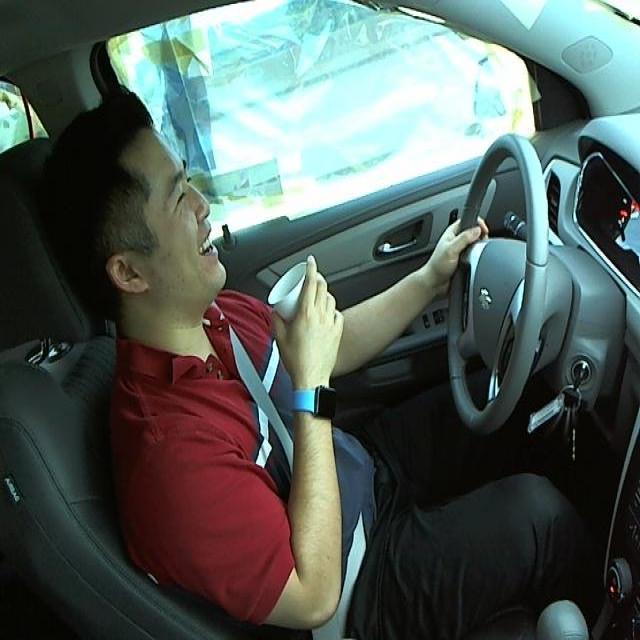drinking: (266, 258, 345, 353)
